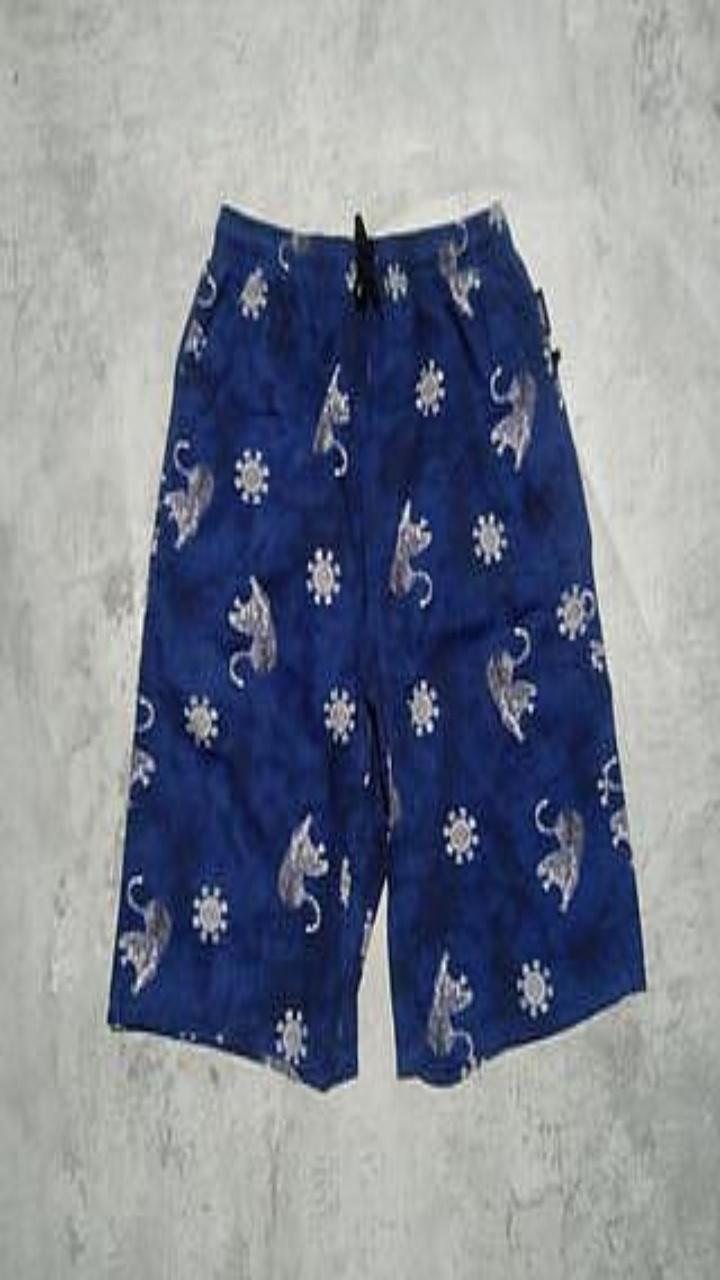Shorts: (108, 204, 644, 1088)
